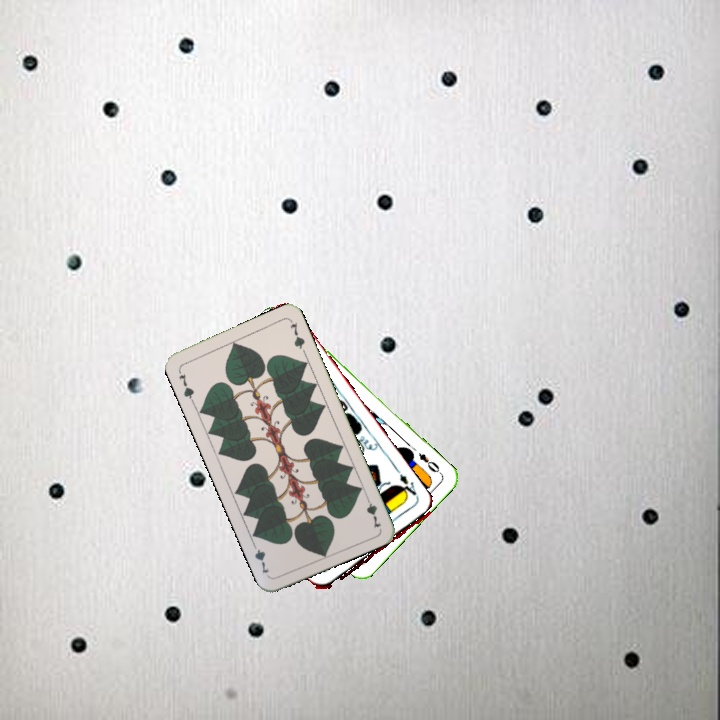EA: (394, 467, 422, 506)
EO: (414, 449, 445, 477)
G7: (174, 366, 197, 405), (362, 491, 383, 531)
